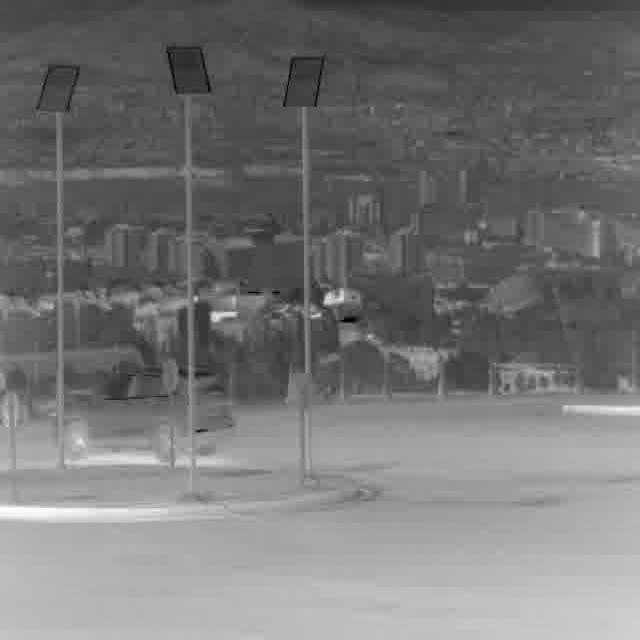Car: (56, 370, 232, 458)
